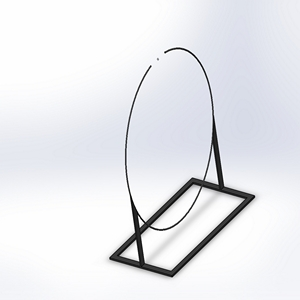circle: (107, 42, 256, 277)
